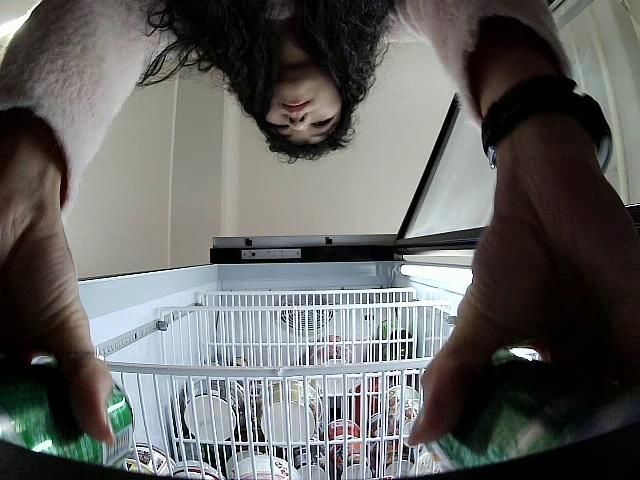12_chilsungCider: (419, 349, 640, 480), (0, 361, 135, 468)
